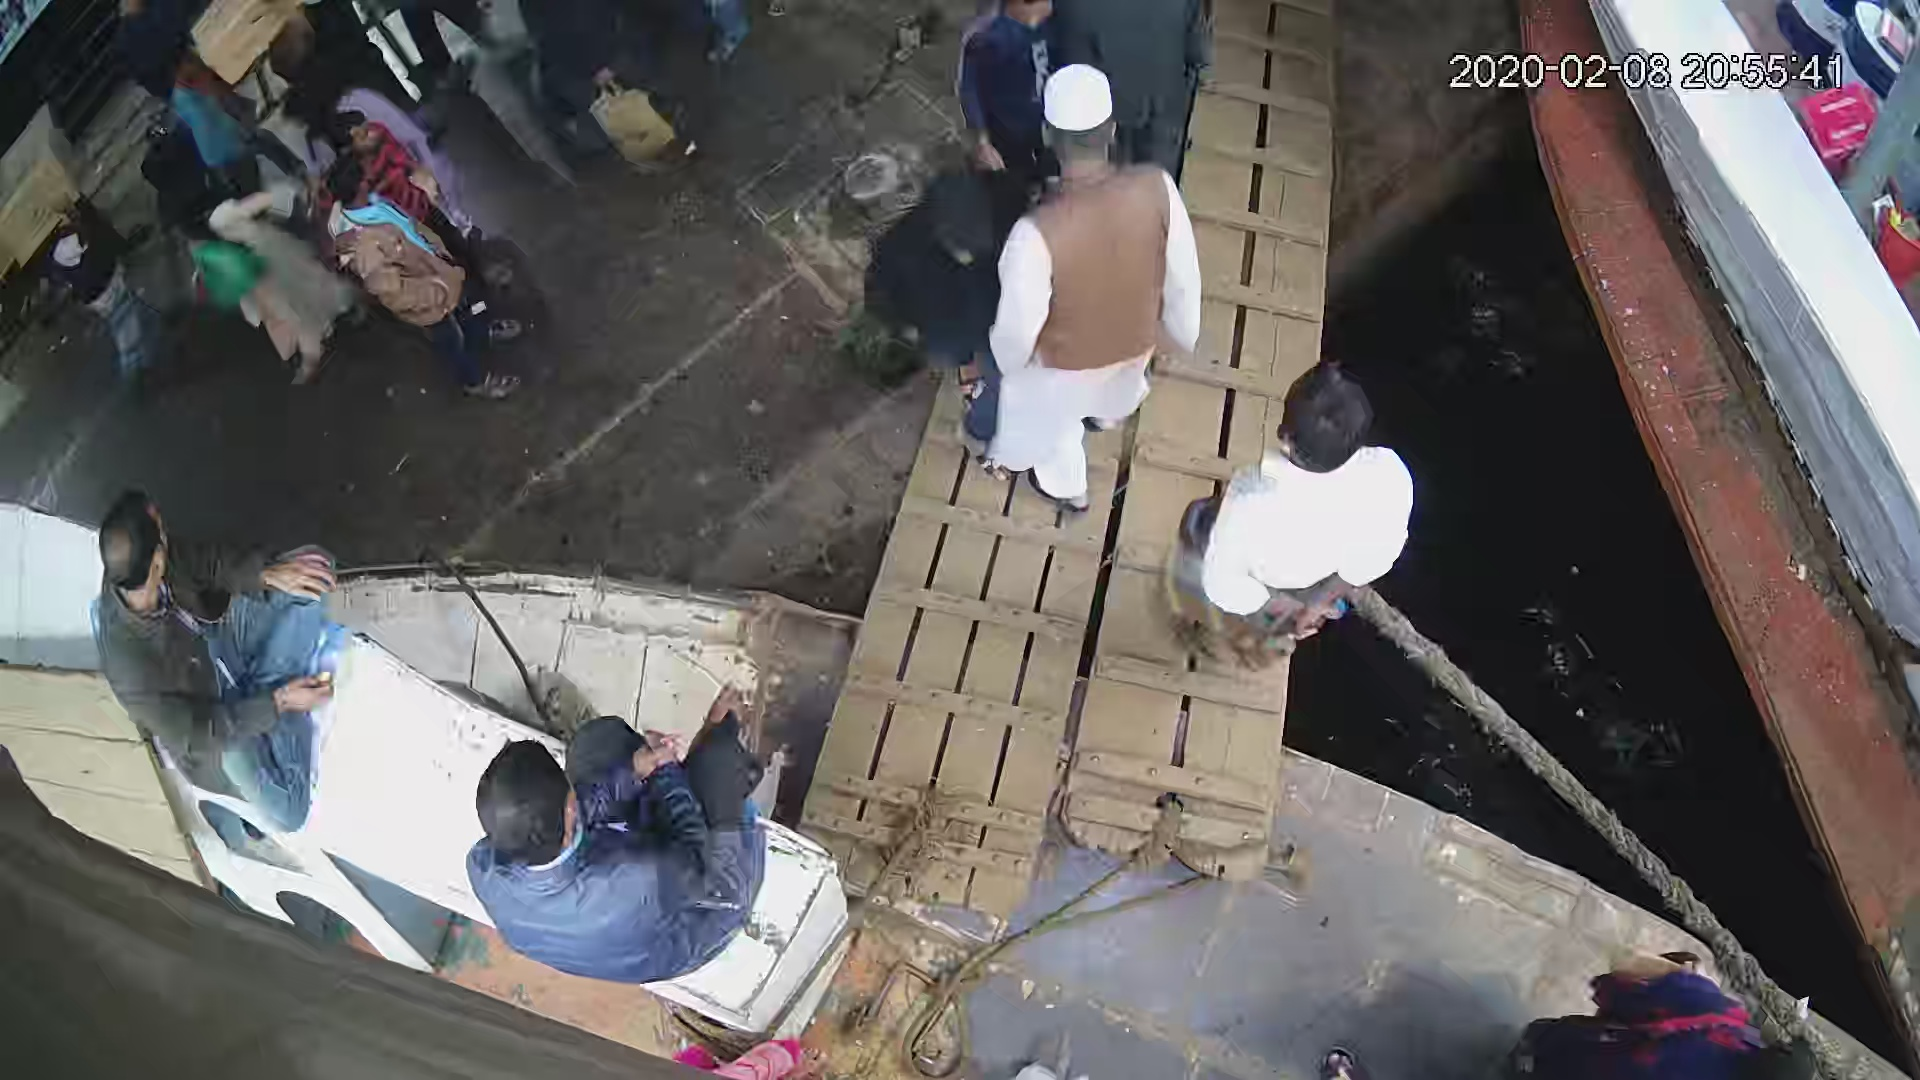person: (461, 673, 768, 994), (994, 57, 1207, 518), (92, 486, 329, 832), (1171, 360, 1419, 671), (330, 163, 526, 406), (858, 171, 1007, 469), (168, 191, 350, 376), (951, 1, 1058, 175)
